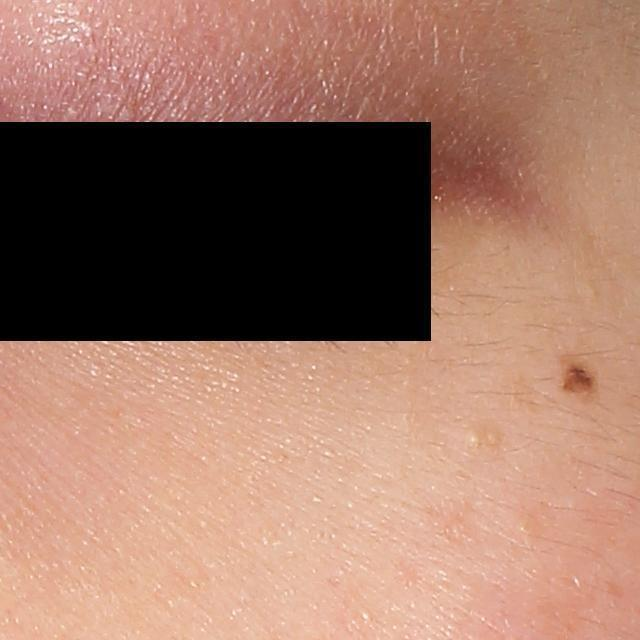nevus: (557, 360, 606, 400)
